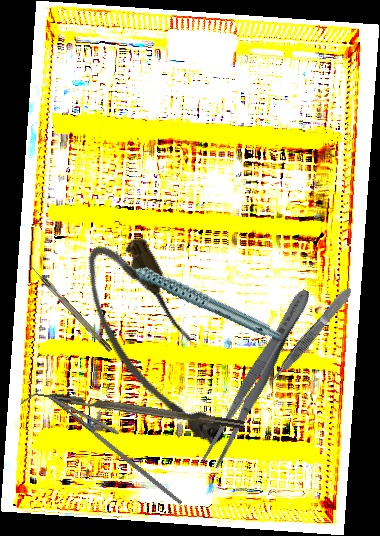Cannula: (69, 226, 242, 468)
Chopper: (20, 386, 245, 440)
Dressing Forceps: (198, 284, 318, 471)
Handpiece: (111, 220, 282, 371)
Hook Surgical: (27, 261, 113, 354)
Needle Holder: (36, 383, 201, 505)
Tissue Forceps: (263, 285, 356, 388)
